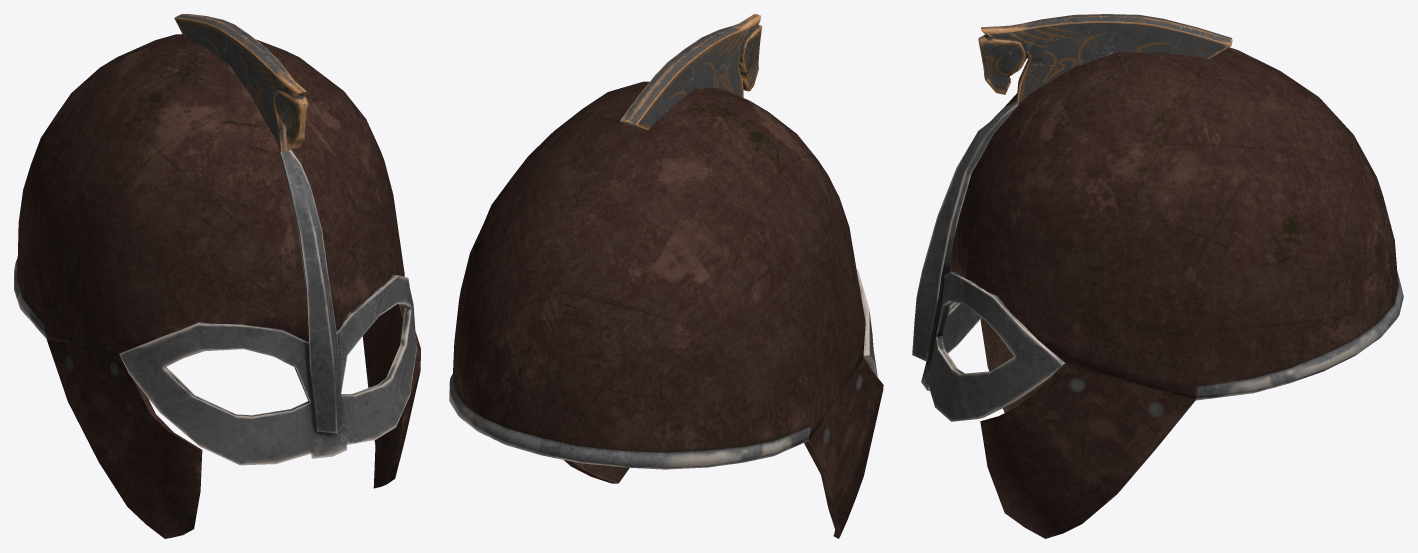
Rendered from cts_rohan_helmet2a.fbx.
3 renders of one model, left to right at view 1: azimuth 30°, elevation 25°; view 2: azimuth 150°, elevation 25°; view 3: azimuth 270°, elevation 25°, orthographic. The views are drawn at different scales.
Parts seen in each view (by area): view 1: cts_rohan_helmet2a; view 2: cts_rohan_helmet2a; view 3: cts_rohan_helmet2a.
Part boxes in pixels (box(x1,y1,x2,y2)): cts_rohan_helmet2a: box(14, 14, 420, 538); cts_rohan_helmet2a: box(449, 14, 883, 538); cts_rohan_helmet2a: box(912, 14, 1403, 538).
Size of the model in its own units: 0.1902 by 0.2549 by 0.2684.
1 material, 1 textured.
